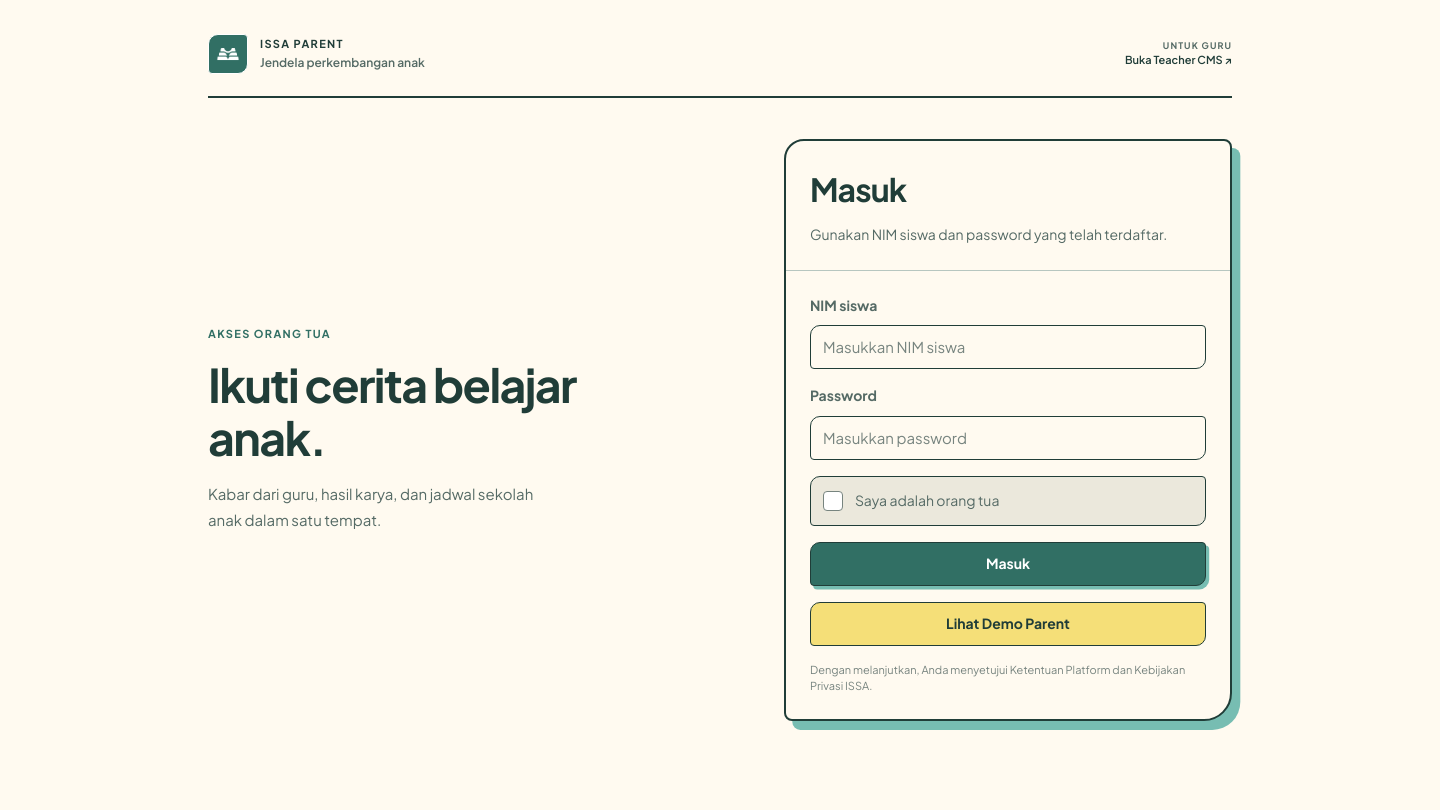
Test: Parent login demo action › renders public-demo errors in the existing login error area
The image size is (1440, 810).
Click the button "Lihat Demo Parent" at (1008,624), box [810, 602, 1206, 646]
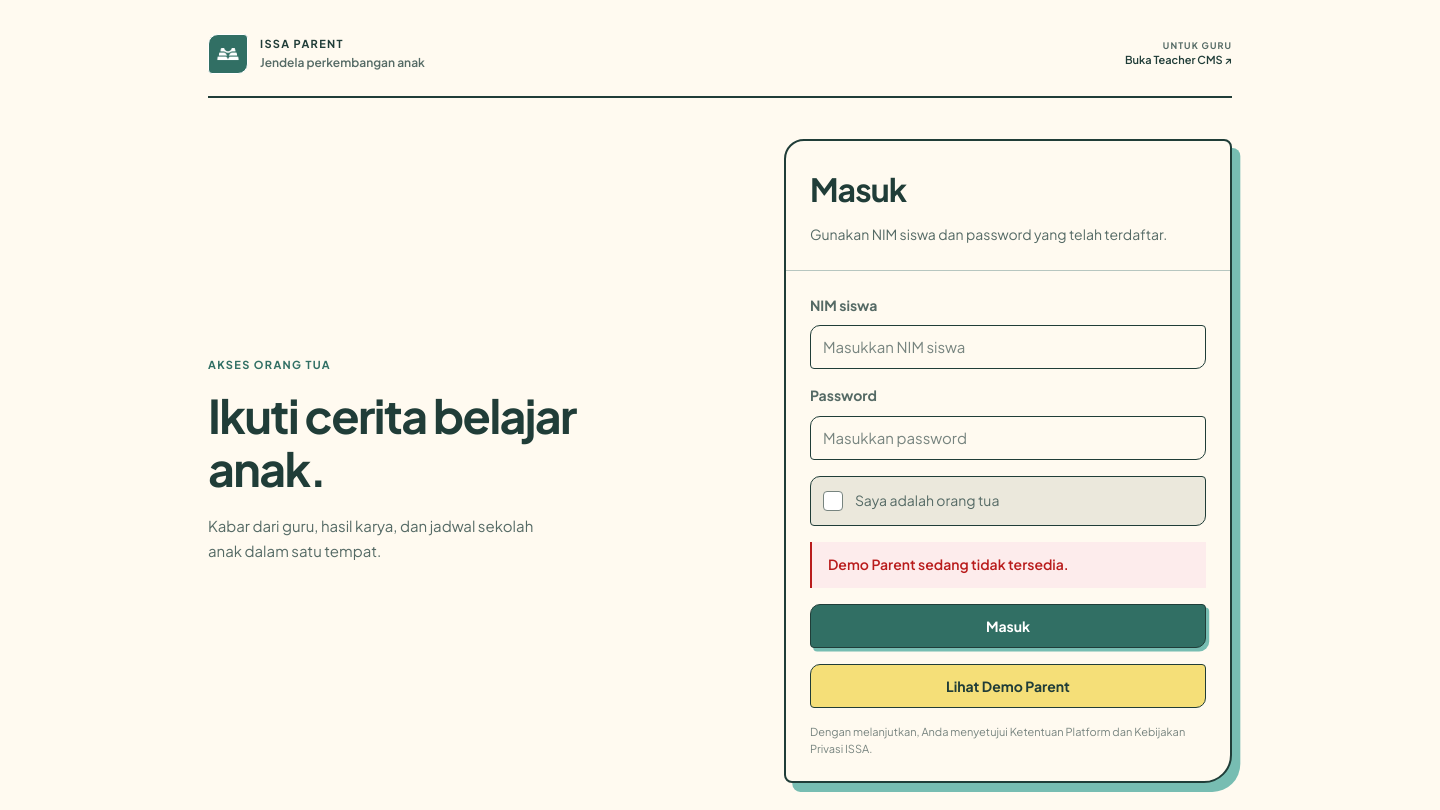
Now the message reads "Demo Parent sedang tidak tersedia.", box [828, 556, 1069, 573]
